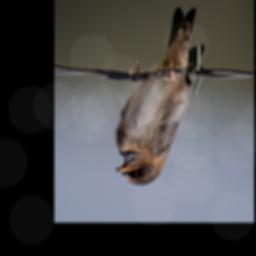Swallow: (113, 6, 206, 188)
